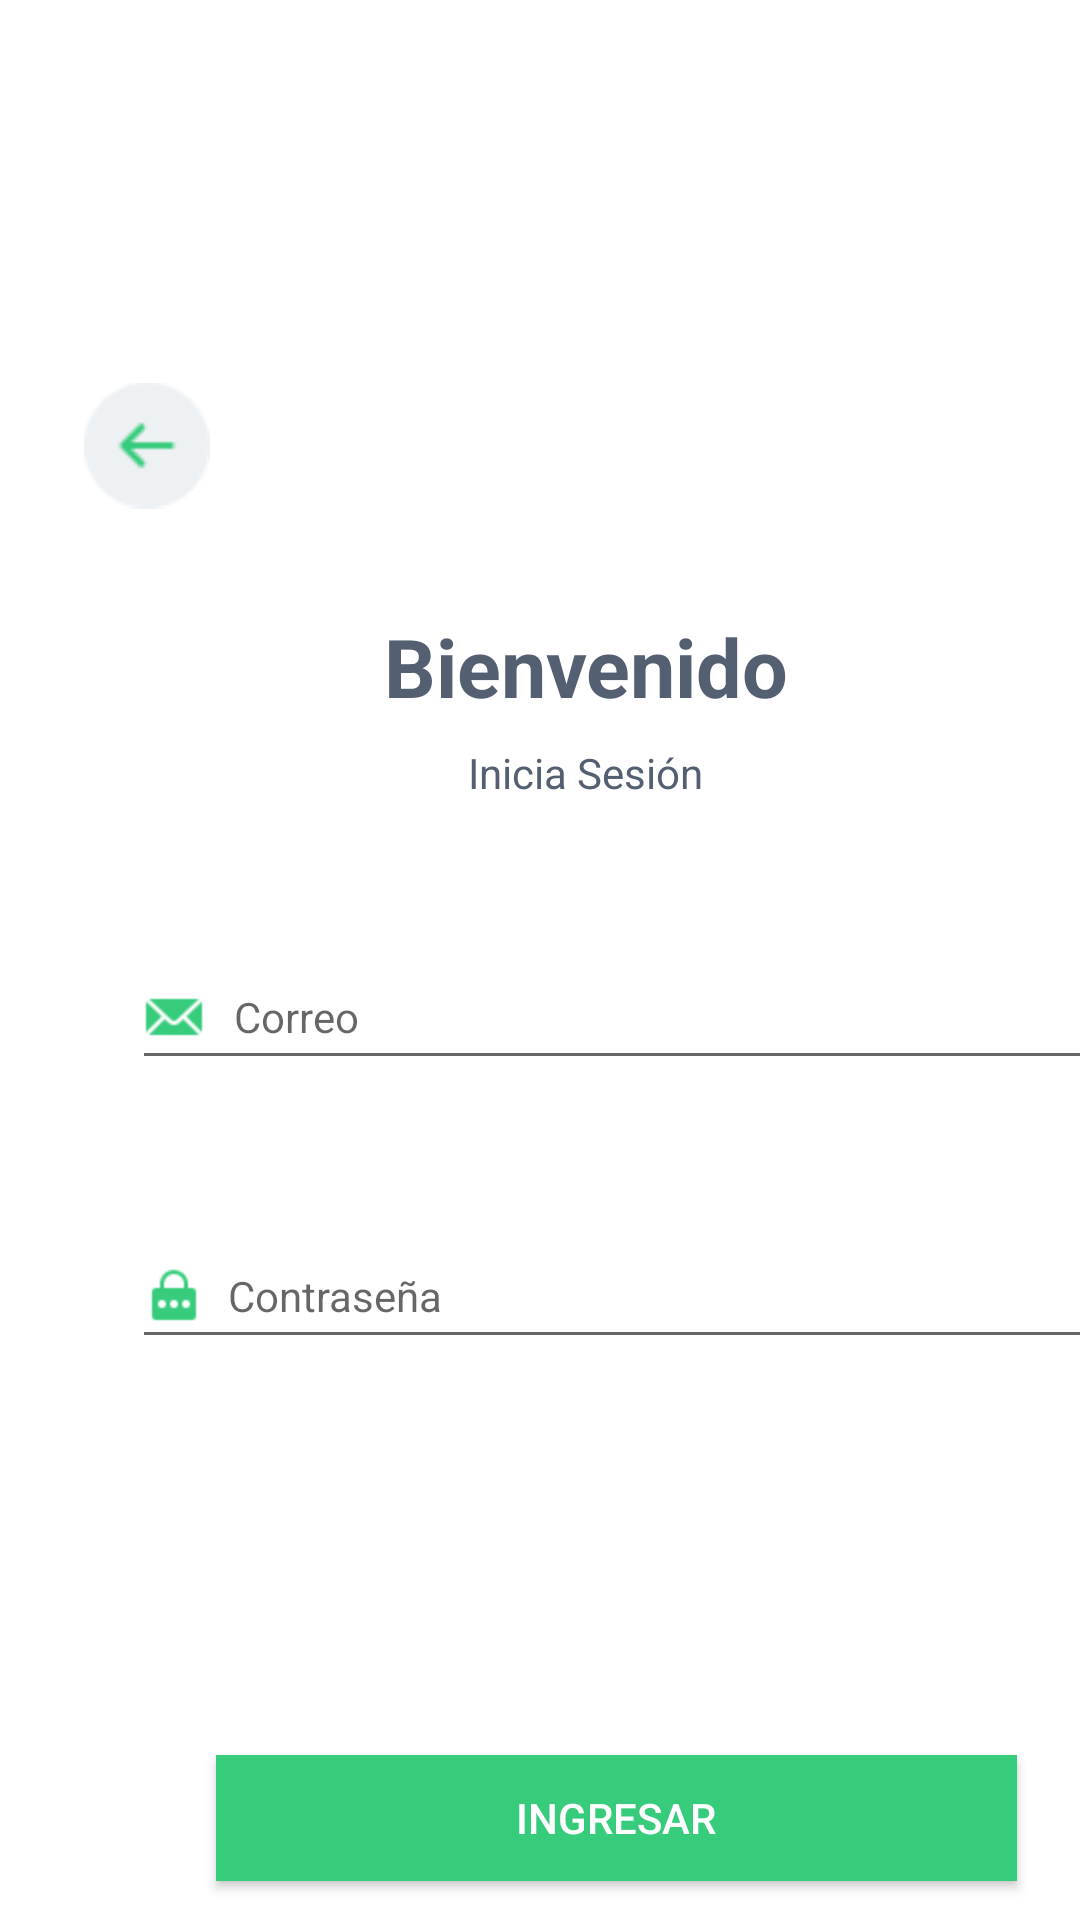

Named icons in this screenshot (1080x1920) and their centers, (x,y):
Regresar: (147,446)
